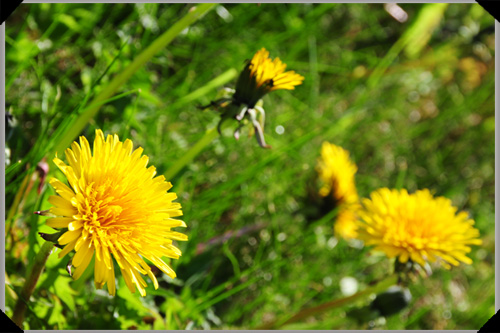dandelion: (64, 142, 172, 272), (373, 185, 459, 264)
